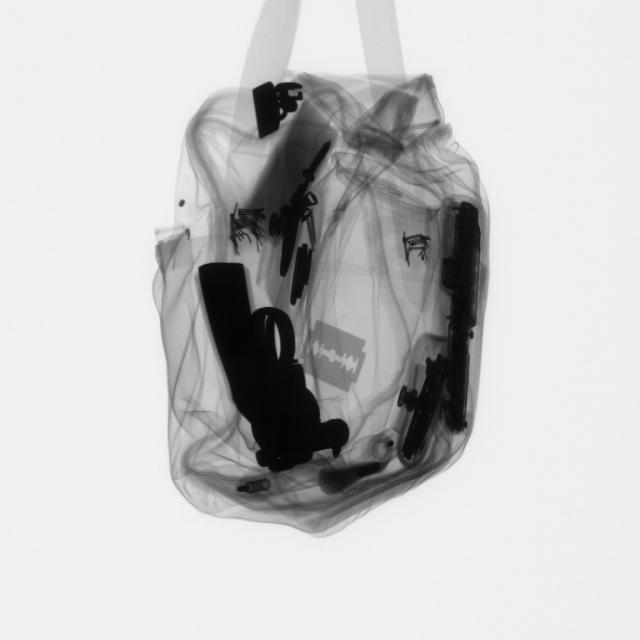BLADE: (299, 310, 372, 397)
GUN: (196, 253, 345, 476)
SCREW: (293, 133, 346, 190)
